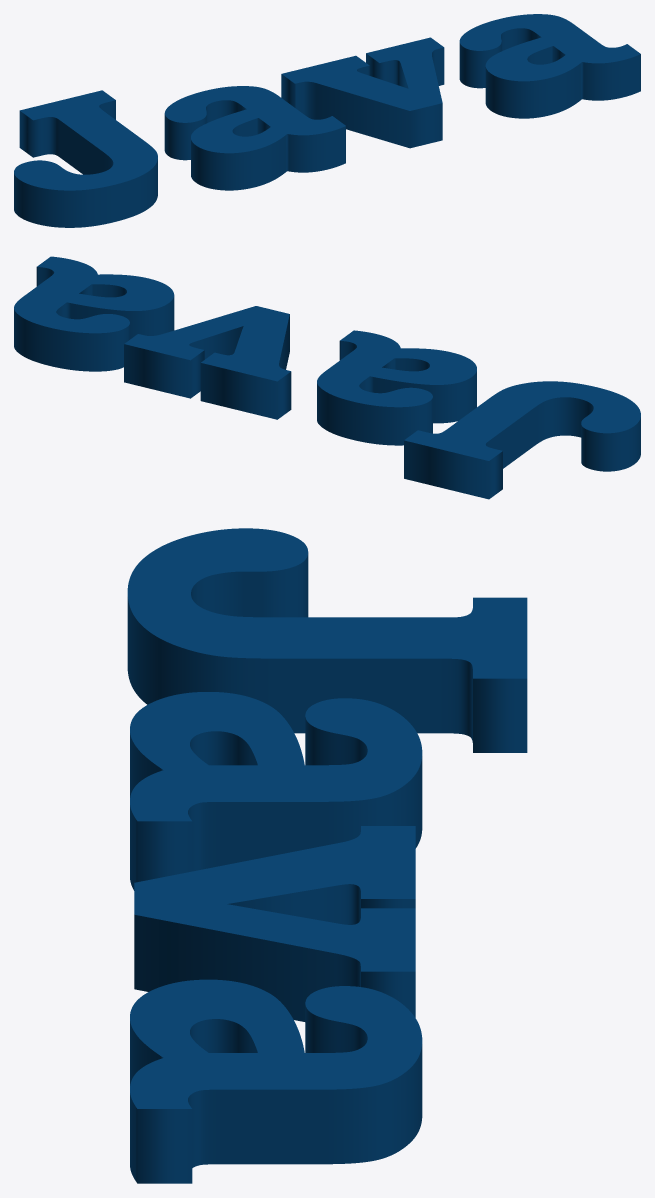
File: java.fbx
3 renders of one model, top to bottom at view 1: azimuth 30°, elevation 25°; view 2: azimuth 150°, elevation 25°; view 3: azimuth 270°, elevation 25°, orthographic. The views are drawn at different scales.
Visible parts, largest first — view 1: Text; view 2: Text; view 3: Text.
Part boxes in pixels (x1,y1,x2,y2): Text: (14,14,640,227); Text: (14,256,640,499); Text: (127,528,527,1183).
Size of the model in its own units: 167 by 10 by 48.56.
